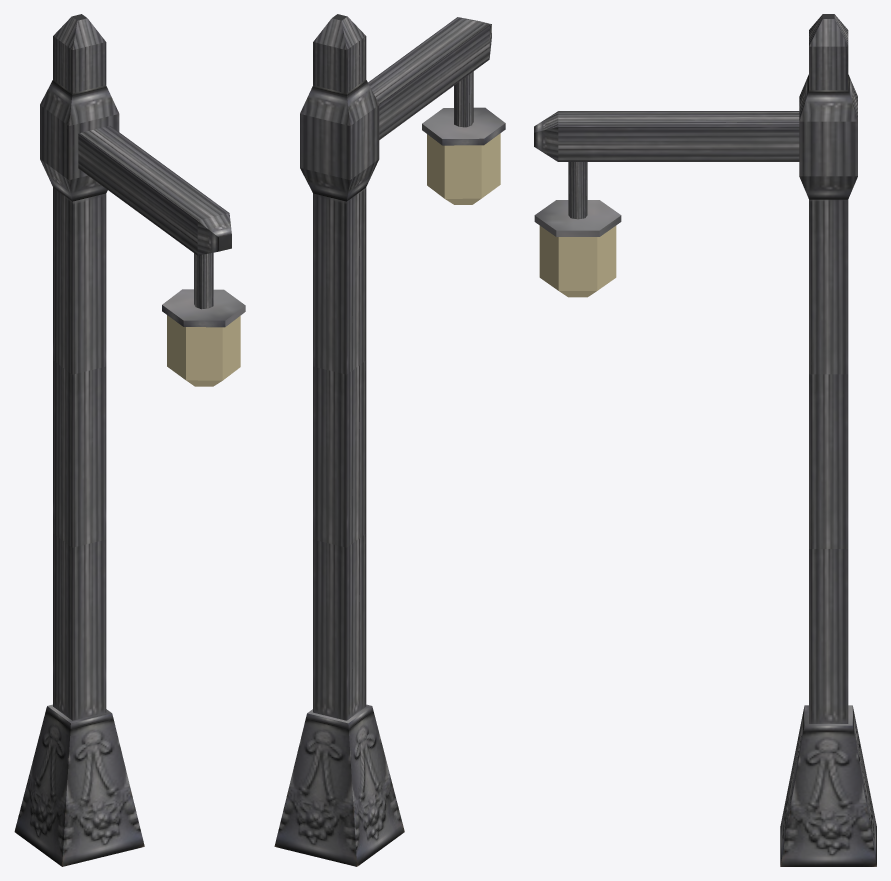
Rendered from lamppost.fbx.
3 renders of one model, left to right at view 1: azimuth 30°, elevation 25°; view 2: azimuth 150°, elevation 25°; view 3: azimuth 270°, elevation 25°, orthographic.
Parts seen in each view (by area): view 1: post, light, rope; view 2: post, light, rope; view 3: post, light, rope.
Part boxes in pixels (x1,y1,x2,y2): post: [14, 14, 231, 866]; light: [162, 289, 245, 386]; rope: [194, 252, 213, 309]; post: [274, 14, 491, 866]; light: [422, 107, 505, 204]; rope: [454, 71, 473, 127]; post: [534, 14, 876, 866]; light: [534, 200, 621, 297]; rope: [568, 162, 587, 219].
Bounding box in the file's own units: 40 × 380 × 142.
Materials: 2 (1 with a texture image).
